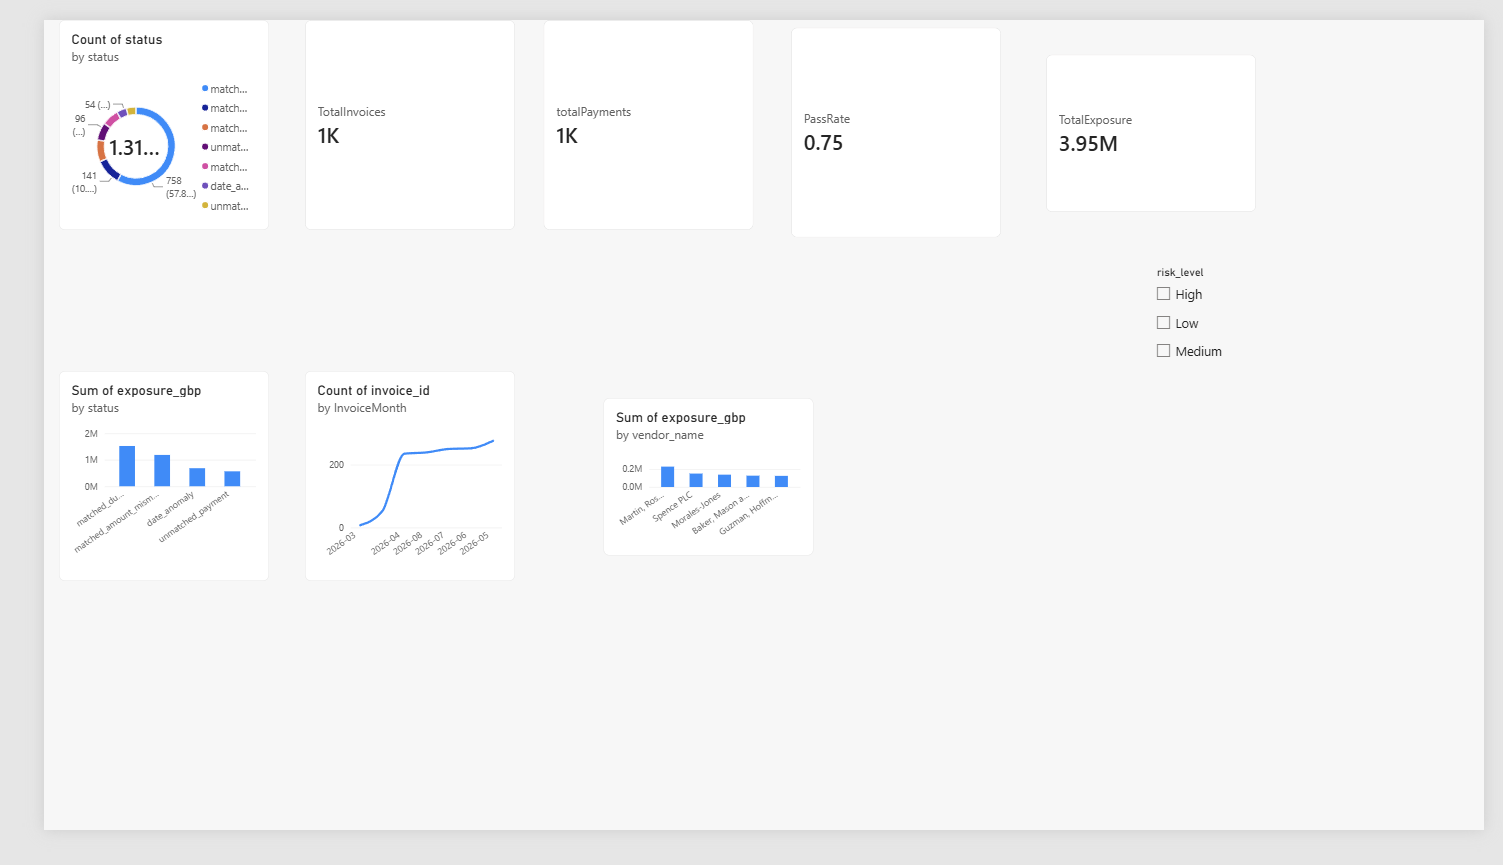

Layout of this report page (visuals, bound fields, positions):
{"tool":"powerbi","page":{"name":"Page 1","canvas":[1920,1080],"ordinal":0},"visuals":[{"type":"donutChart","fields":{"Category":["master_reconciliation_export.status"],"Y":["CountNonNull(master_reconciliation_export.status)"]},"box":[20,0,280,280],"z":0},{"type":"clusteredColumnChart","fields":{"Category":["master_reconciliation_export.status"],"Y":["Sum(master_reconciliation_export.exposure_gbp)"]},"box":[20,468.3,280,280],"z":1000},{"type":"lineChart","fields":{"Category":["master_reconciliation_export.InvoiceMonth"],"Y":["CountNonNull(master_reconciliation_export.invoice_id)"]},"box":[348.3,468.3,280,280],"z":2000},{"type":"clusteredColumnChart","fields":{"Category":["master_reconciliation_export.vendor_name"],"Y":["Sum(master_reconciliation_export.exposure_gbp)"]},"box":[746.7,503.3,280,210],"z":2001},{"type":"cardVisual","fields":{"Data":["master_reconciliation_export.TotalInvoices"]},"box":[348.3,0,280,280],"z":2002},{"type":"cardVisual","fields":{"Data":["master_reconciliation_export.totalPayments"]},"box":[666.7,0,280,280],"z":2003},{"type":"cardVisual","fields":{"Data":["master_reconciliation_export.PassRate"]},"box":[995,10,280,280],"z":2004},{"type":"cardVisual","fields":{"Data":["master_reconciliation_export.TotalExposure"]},"box":[1335,45,280,210],"z":2005},{"type":"slicer","fields":{"Values":["master_reconciliation_export.risk_level"]},"box":[1475,328.3,280,280],"z":2006}]}

Visuals, with their boxes in screenshot pixels (x1, y1, x2, y2), scaled from the page's 1920x1080 canvas onto the 1503x865 screenshot:
donutChart - master_reconciliation_export.status x CountNonNull(master_reconciliation_export.status): left=16, top=0, right=235, bottom=224
clusteredColumnChart - master_reconciliation_export.status x Sum(master_reconciliation_export.exposure_gbp): left=16, top=375, right=235, bottom=599
lineChart - master_reconciliation_export.InvoiceMonth x CountNonNull(master_reconciliation_export.invoice_id): left=273, top=375, right=492, bottom=599
clusteredColumnChart - master_reconciliation_export.vendor_name x Sum(master_reconciliation_export.exposure_gbp): left=585, top=403, right=804, bottom=571
cardVisual - master_reconciliation_export.TotalInvoices: left=273, top=0, right=492, bottom=224
cardVisual - master_reconciliation_export.totalPayments: left=522, top=0, right=741, bottom=224
cardVisual - master_reconciliation_export.PassRate: left=779, top=8, right=998, bottom=232
cardVisual - master_reconciliation_export.TotalExposure: left=1045, top=36, right=1264, bottom=204
slicer - master_reconciliation_export.risk_level: left=1155, top=263, right=1374, bottom=487
